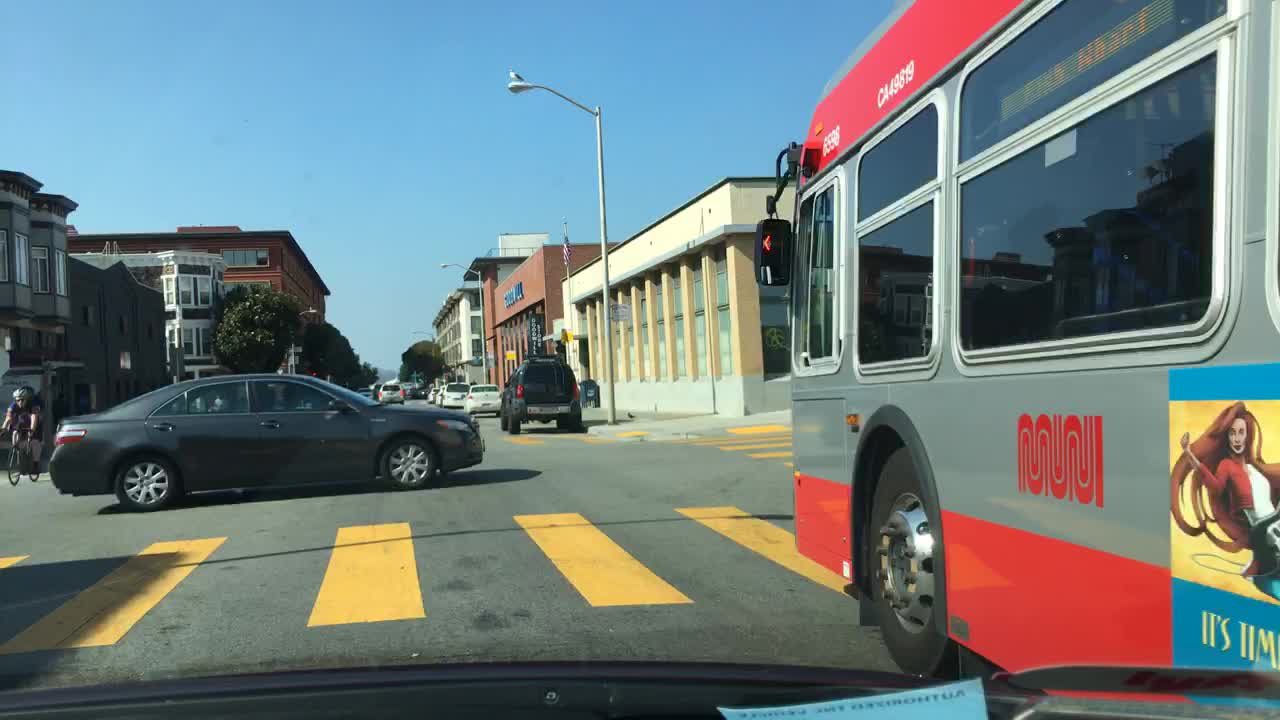bike: (1, 428, 41, 485)
bus: (751, 0, 1276, 704)
car: (48, 369, 486, 511), (499, 352, 583, 434), (463, 384, 502, 413), (439, 382, 469, 407), (376, 382, 404, 404), (357, 384, 374, 402), (411, 382, 428, 396), (427, 387, 439, 404), (401, 381, 413, 396), (370, 382, 382, 397)
rider: (0, 385, 44, 474)
traffic sign: (168, 346, 183, 374), (609, 303, 629, 318), (117, 350, 131, 368), (560, 327, 572, 342), (278, 364, 292, 376), (286, 355, 298, 365), (505, 349, 515, 361), (286, 345, 301, 352), (471, 349, 483, 356)
